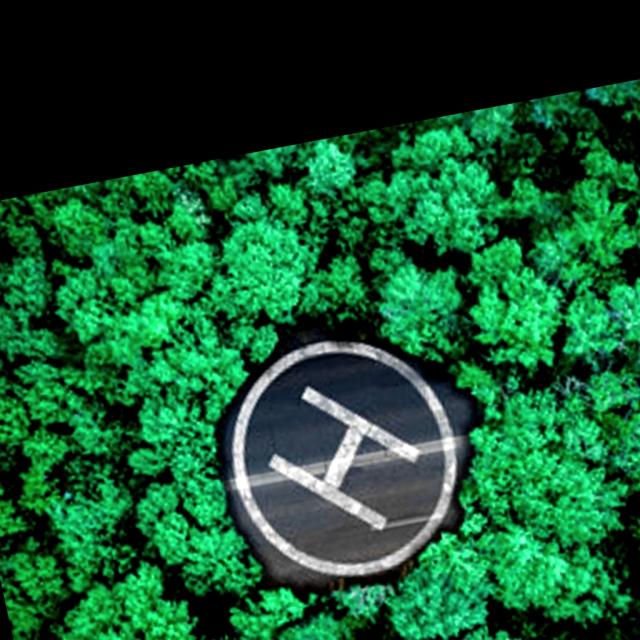helipad: (225, 333, 462, 580)
